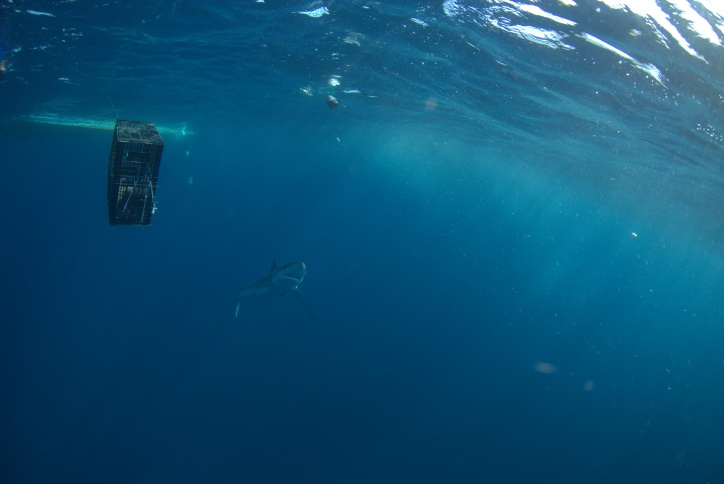Azul: (208, 240, 330, 326)
